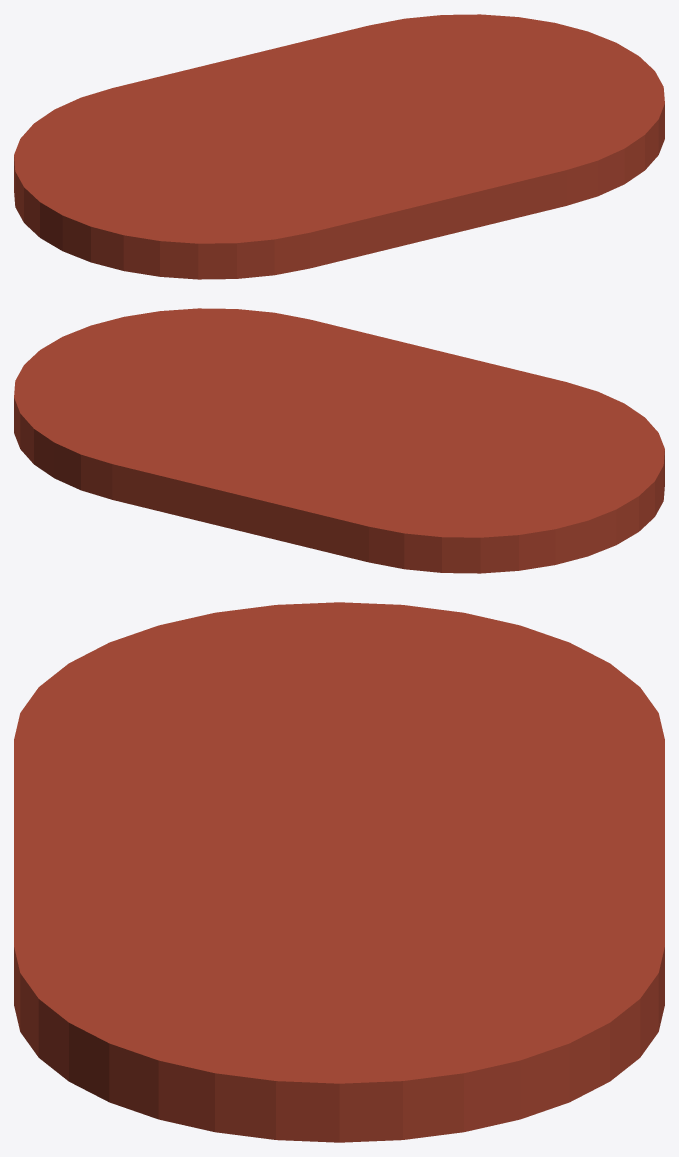
Rendered from track.fbx.
3 views of the same model, one above another, from view 1: azimuth 30°, elevation 25°; view 2: azimuth 150°, elevation 25°; view 3: azimuth 270°, elevation 25° (orthographic). The views are drawn at different scales.
Visible parts, largest first — view 1: Cylinder.001; view 2: Cylinder.001; view 3: Cylinder.001.
Boxes of the visible parts, bbox=[...] form: Cylinder.001: bbox=[14, 14, 664, 279]; Cylinder.001: bbox=[14, 308, 664, 573]; Cylinder.001: bbox=[14, 602, 664, 1142].
Size of the model in its own units: 350 by 20 by 200.
